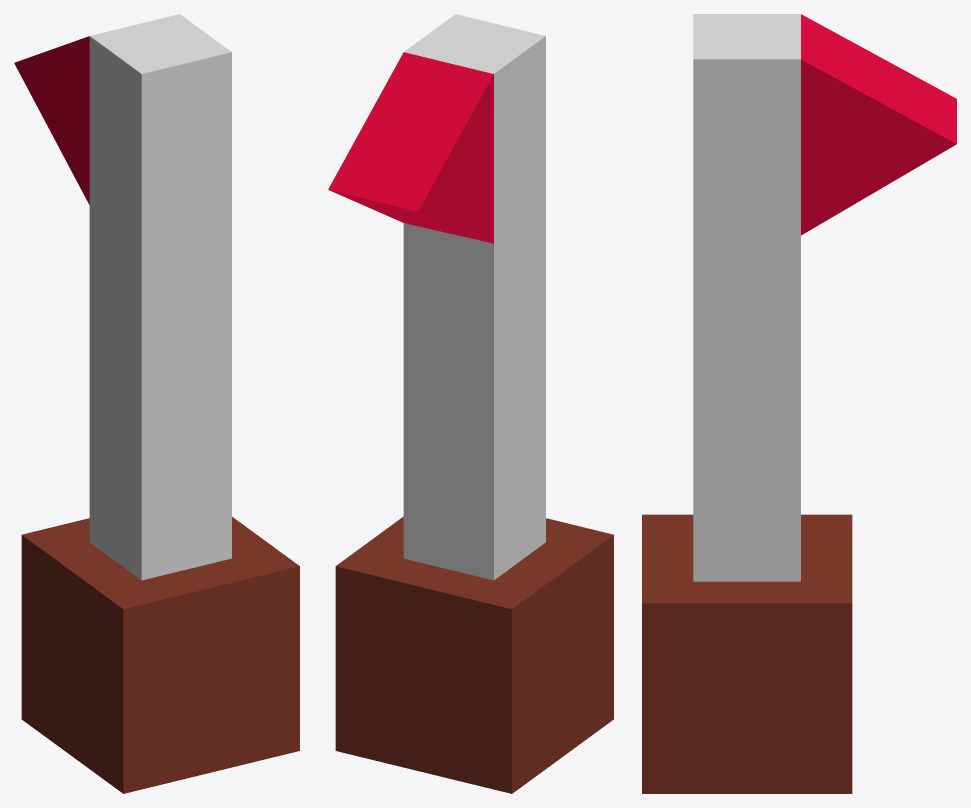
File: flag.fbx
3 renders of one model, left to right at view 1: azimuth 30°, elevation 25°; view 2: azimuth 150°, elevation 25°; view 3: azimuth 270°, elevation 25°, orthographic. The views are drawn at different scales.
Parts seen in each view (by area): view 1: Cube; view 2: Cube; view 3: Cube.
Boxes of the visible parts, x1,y1,x2,y2 form: Cube: (14,14,299,793); Cube: (328,14,613,793); Cube: (642,14,956,793).
Bounding box in the file's own units: 200 × 748 × 300.
